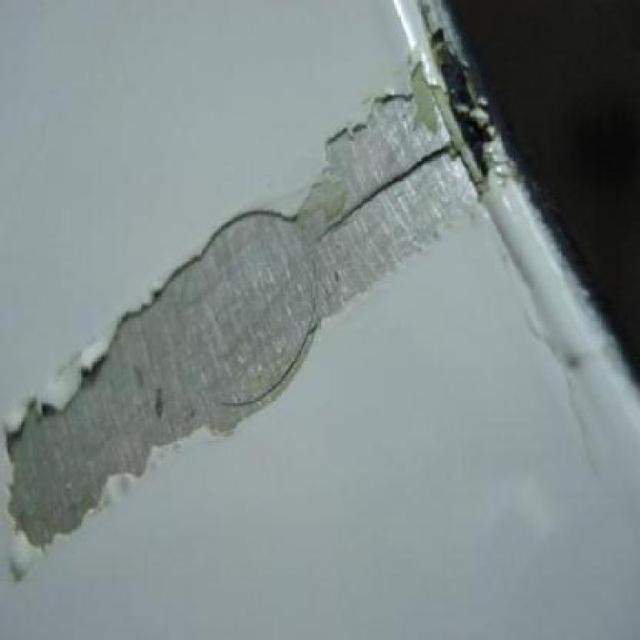crack: (304, 129, 461, 257)
